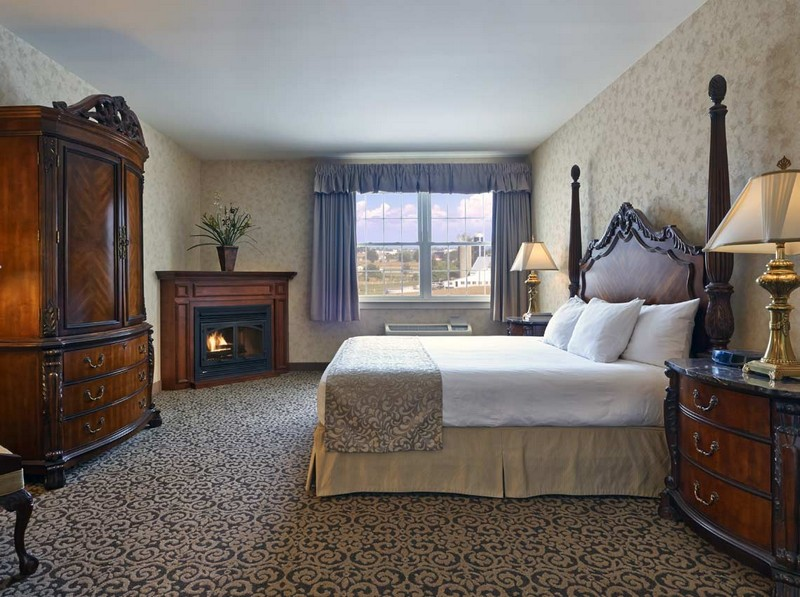bed: (320, 164, 730, 500)
lamp: (701, 157, 800, 378), (510, 235, 559, 325)
table: (664, 349, 798, 585)
